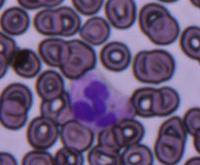N: (68, 71, 131, 131)
